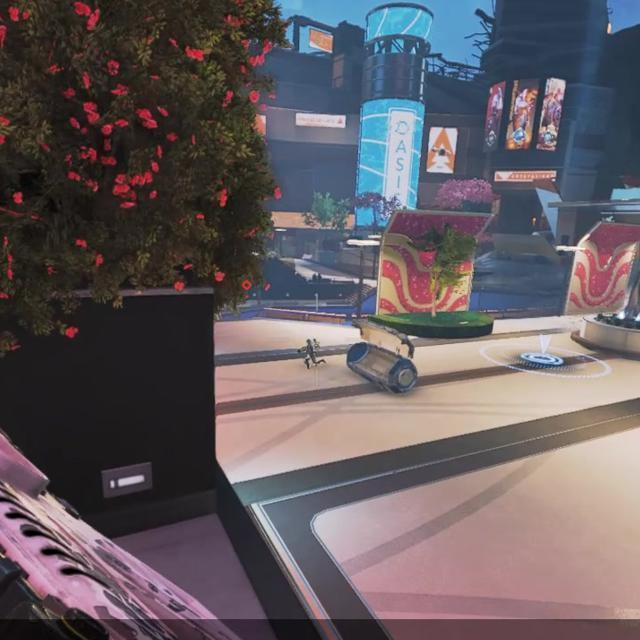avatar: (301, 338, 326, 370)
